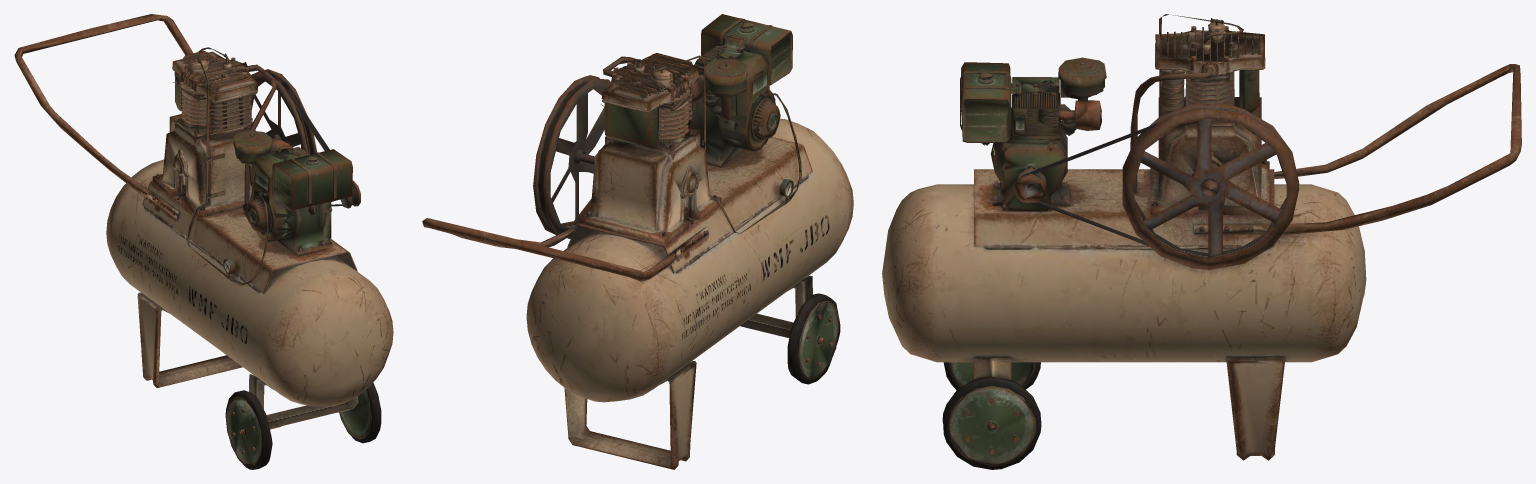
The model's file is recycler.glb.
3 renders of one model, left to right at view 1: azimuth 30°, elevation 25°; view 2: azimuth 150°, elevation 25°; view 3: azimuth 270°, elevation 25°, orthographic. The views are drawn at different scales.
Parts seen in each view (by area): view 1: old_military_compressor; view 2: old_military_compressor; view 3: old_military_compressor.
Part boxes in pixels (box(x1,y1,x2,y2)): old_military_compressor: box(14, 14, 393, 469); old_military_compressor: box(422, 14, 853, 469); old_military_compressor: box(882, 14, 1521, 469).
Bounding box in the file's own units: 0.5956 × 1.18 × 1.67.
Materials: 2 (2 with a texture image).
